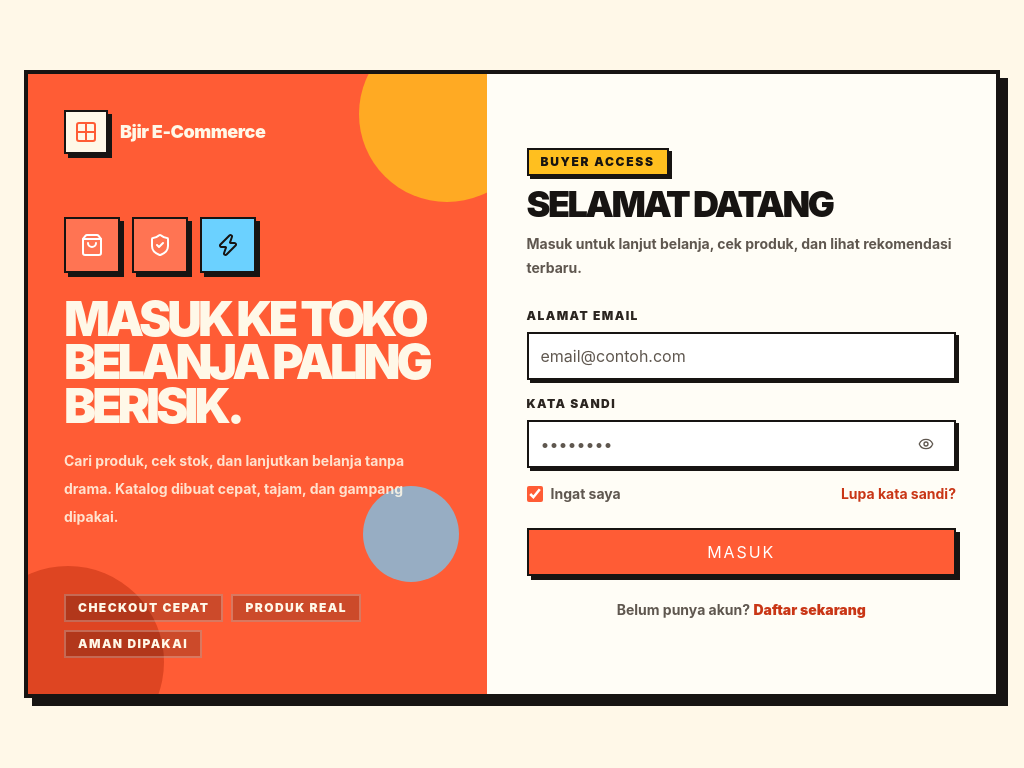
Test: auth flow › shows login error for invalid credentials
The image size is (1024, 768).
Type "wrong@test.dev" into the field labelled "Alamat email" at x=741, y=356, box [540,344,942,368]
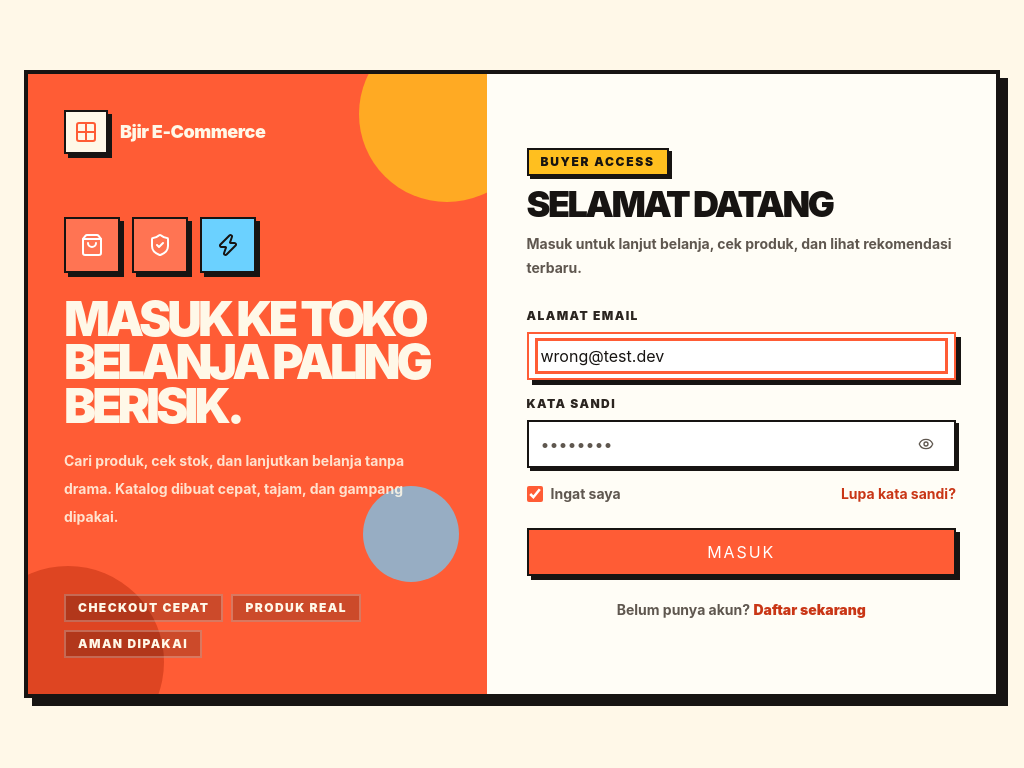
Type "password123" into the password field labelled "Kata sandi" at x=721, y=444, box [540,432,902,456]
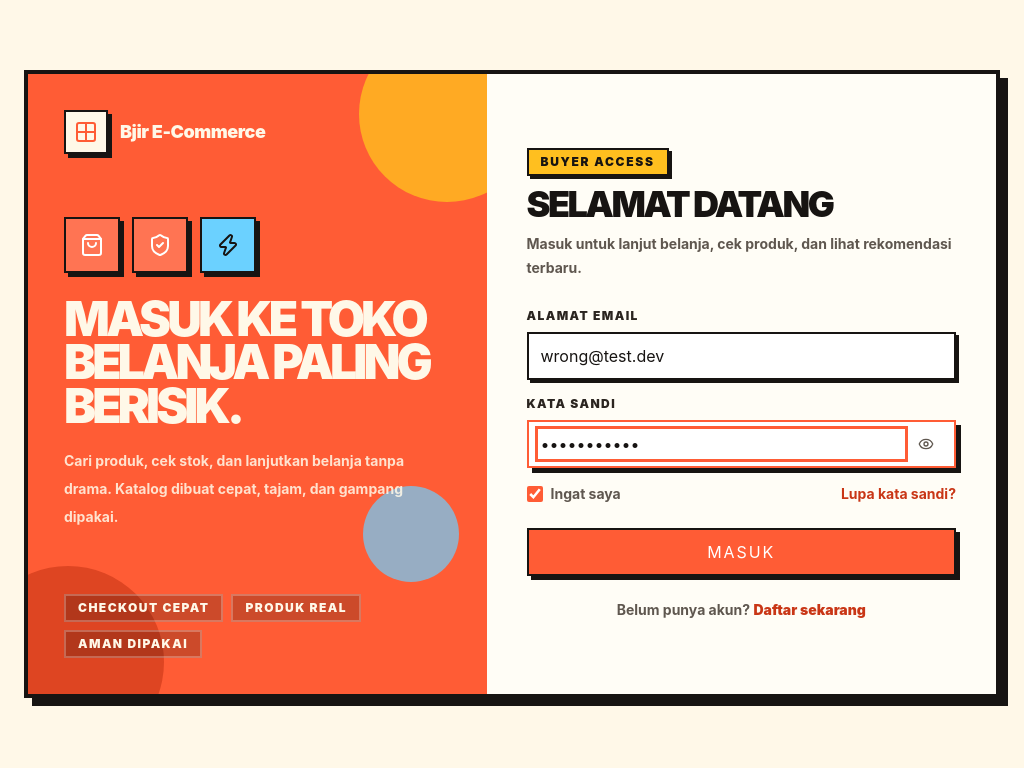
Click the button "Masuk" at x=741, y=552, box [526,528,956,576]
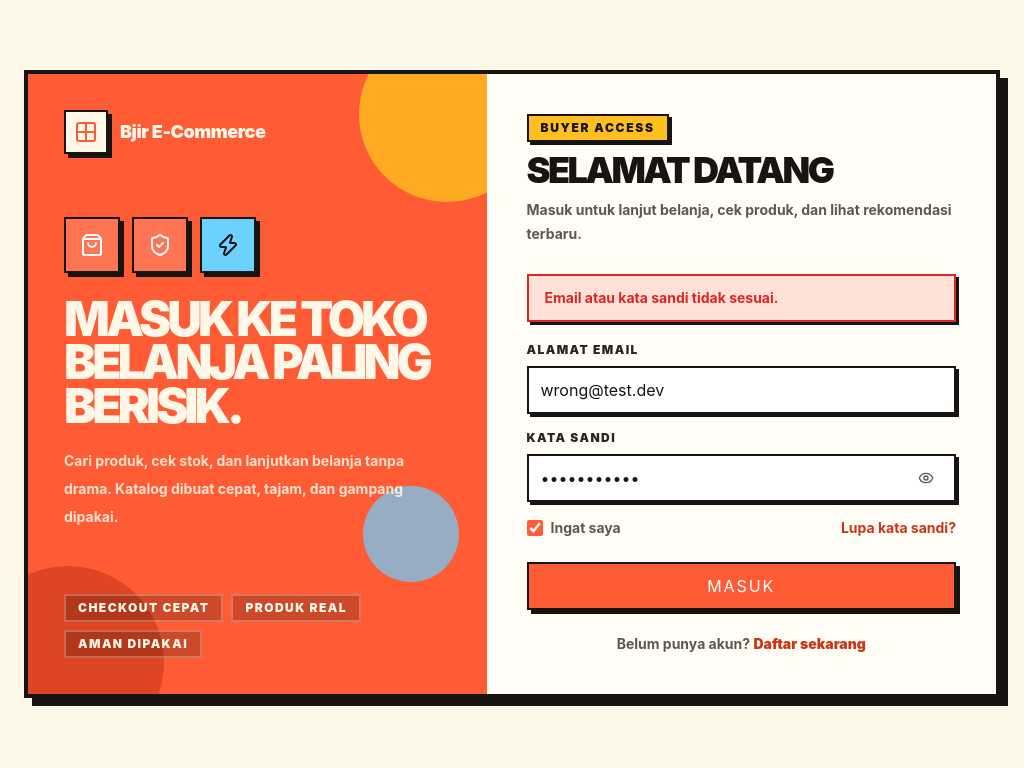
Expected: the text "Email atau kata sandi tidak sesuai." is shown, [526,274,956,322]
